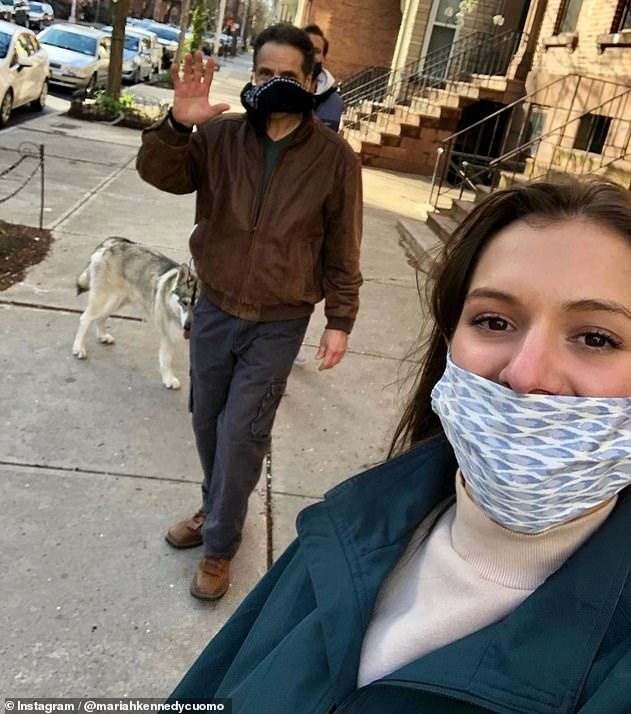with_incorrect_mask: (427, 184, 631, 530)
with_mask: (247, 23, 316, 122)
